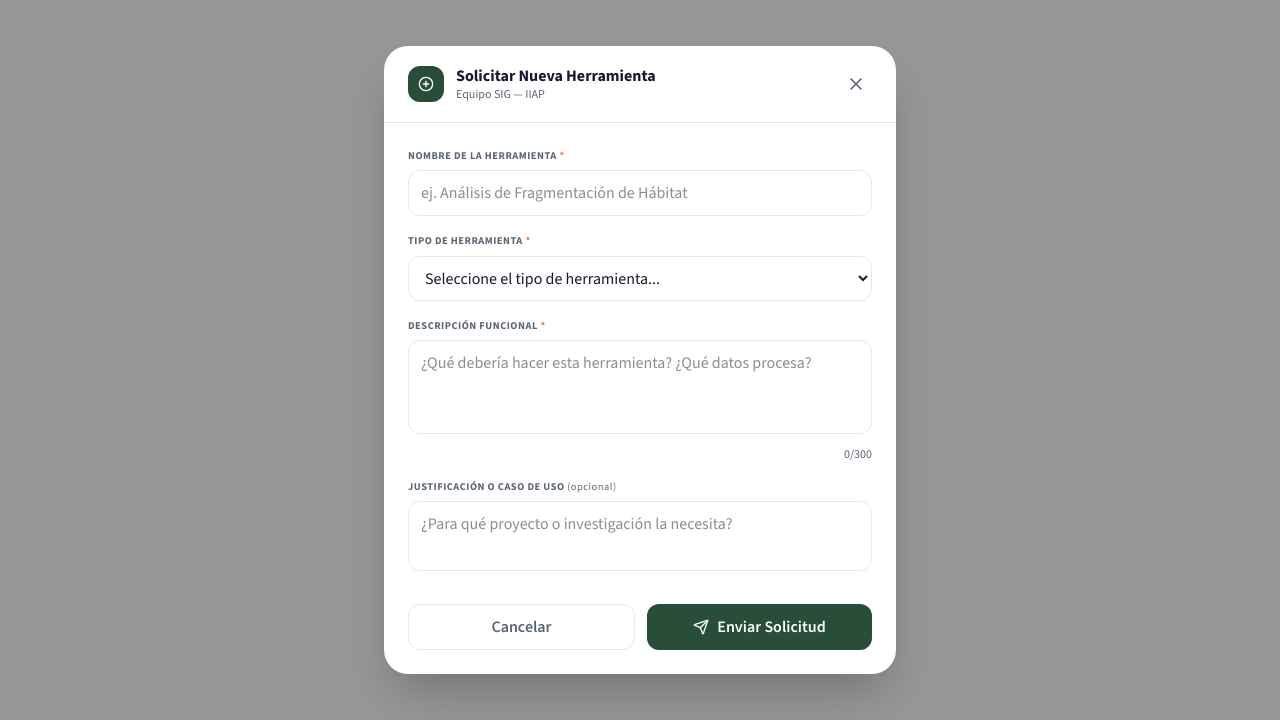
Test: SolicitarHerramientaModal — validación › escribir en un campo limpia su error y el error del servidor
Step 1. Type "Detector de deforestación" into the field labelled "Nombre de la herramienta *" → [640, 194], box [408,170,872,216]
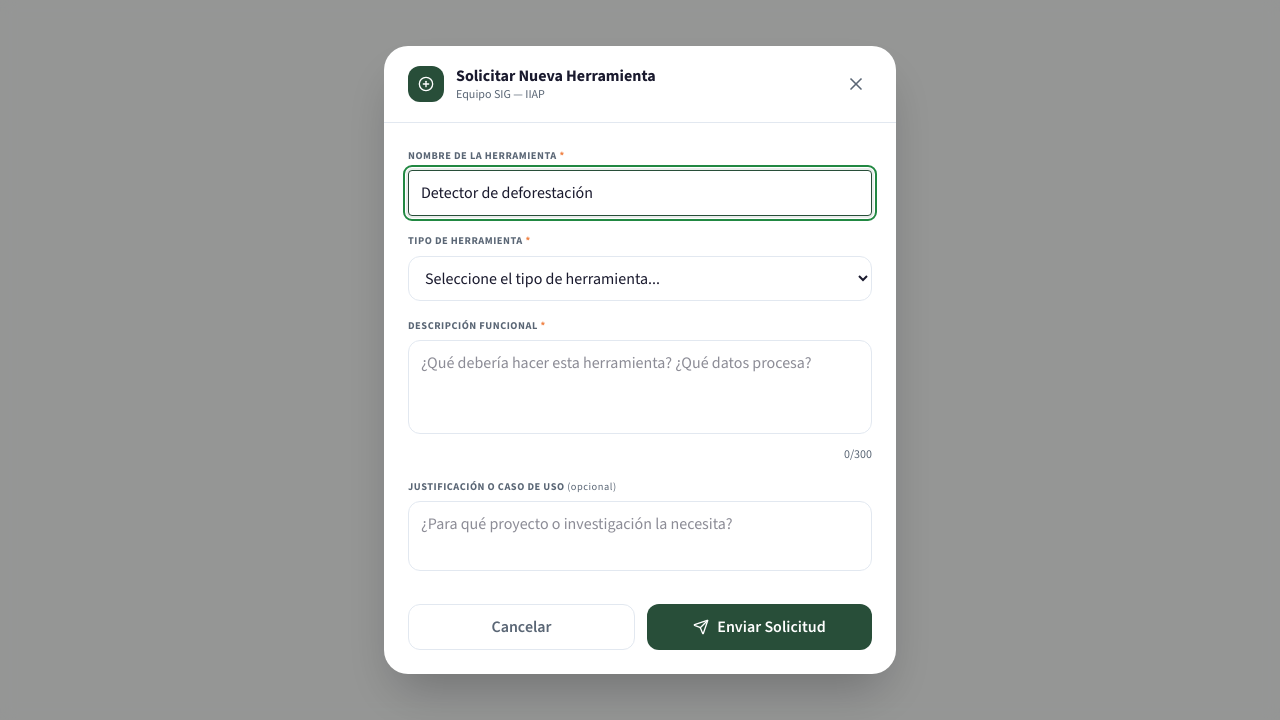
Step 2. Select "Análisis Espacial" in the dropdown labelled "Tipo de herramienta *" → [640, 278], box [408,256,872,301]
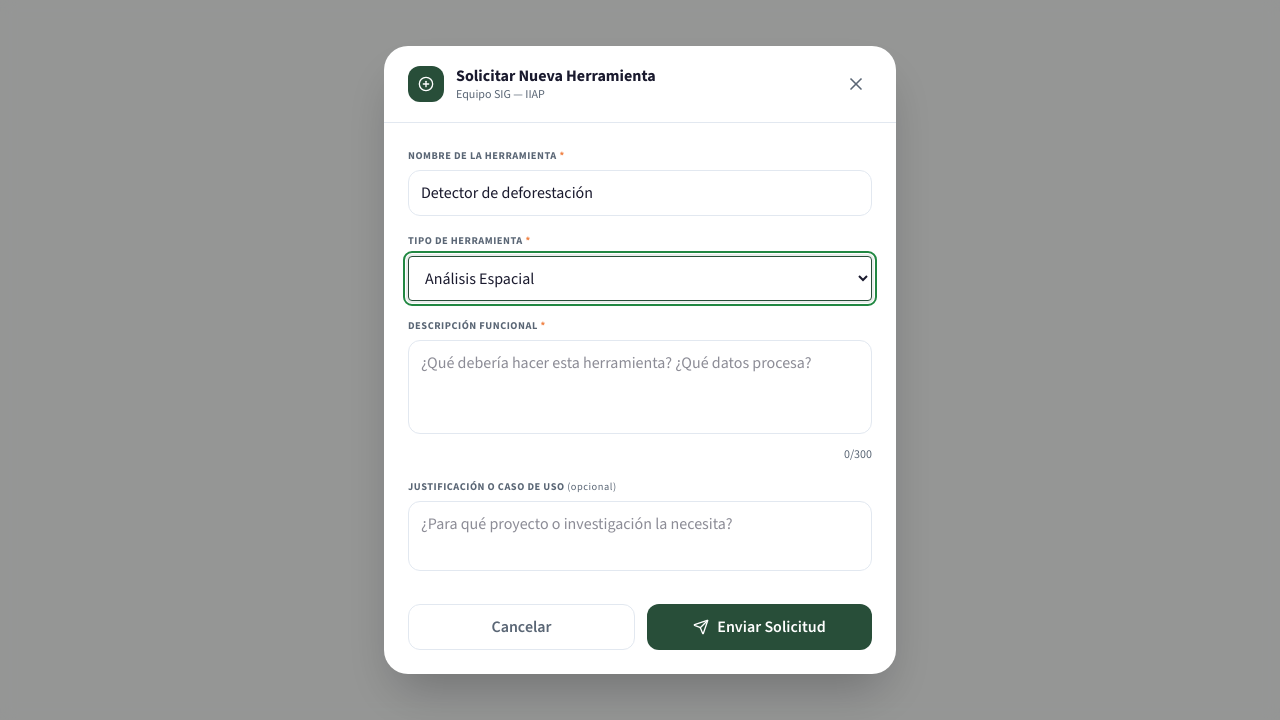
Step 3. Type "Compara imágenes satelitales de dos fechas y resalta pérdida de cobertura boscosa." into the text box labelled "Descripción funcional *" → [640, 387], box [408,340,872,434]
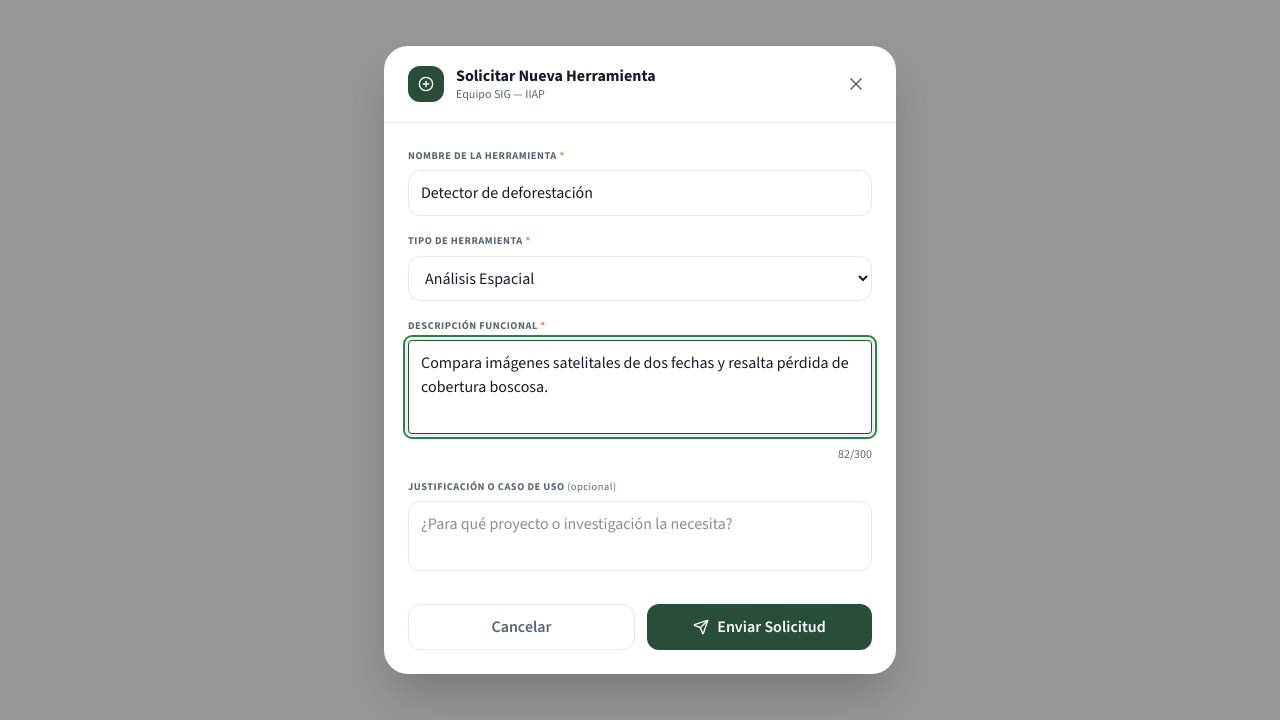
Step 4. Click the button "Enviar Solicitud" → [760, 627], box [647,604,872,650]
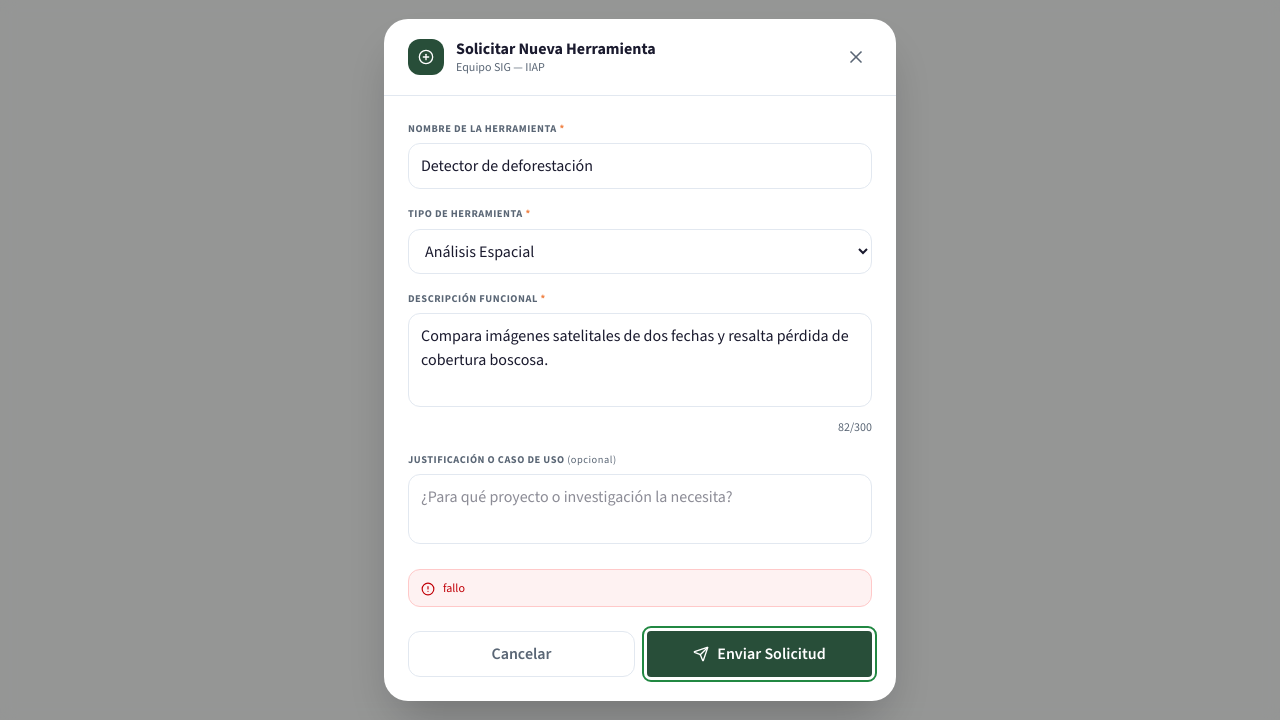
Now the text "fallo" is shown, box [443,580,465,596]
Step 5. Type "x" into the field labelled "Nombre de la herramienta *" → [640, 166], box [408,144,872,190]
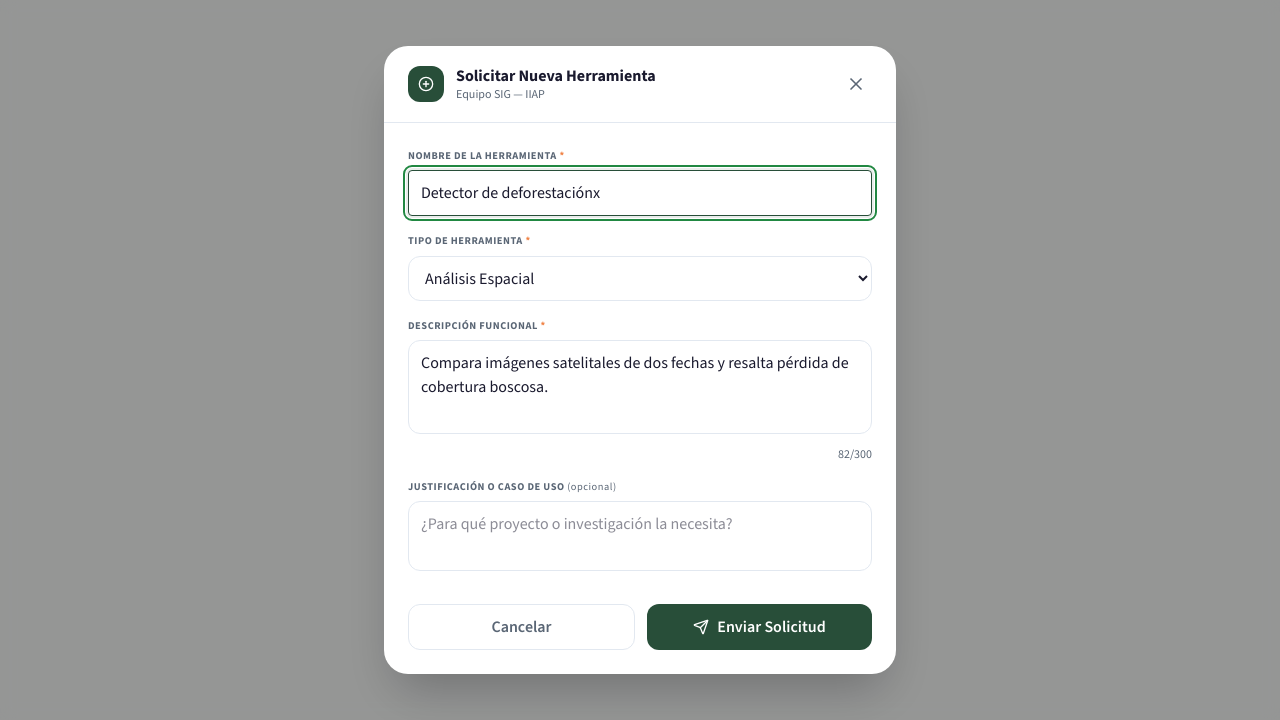
Now the text "fallo" is gone
